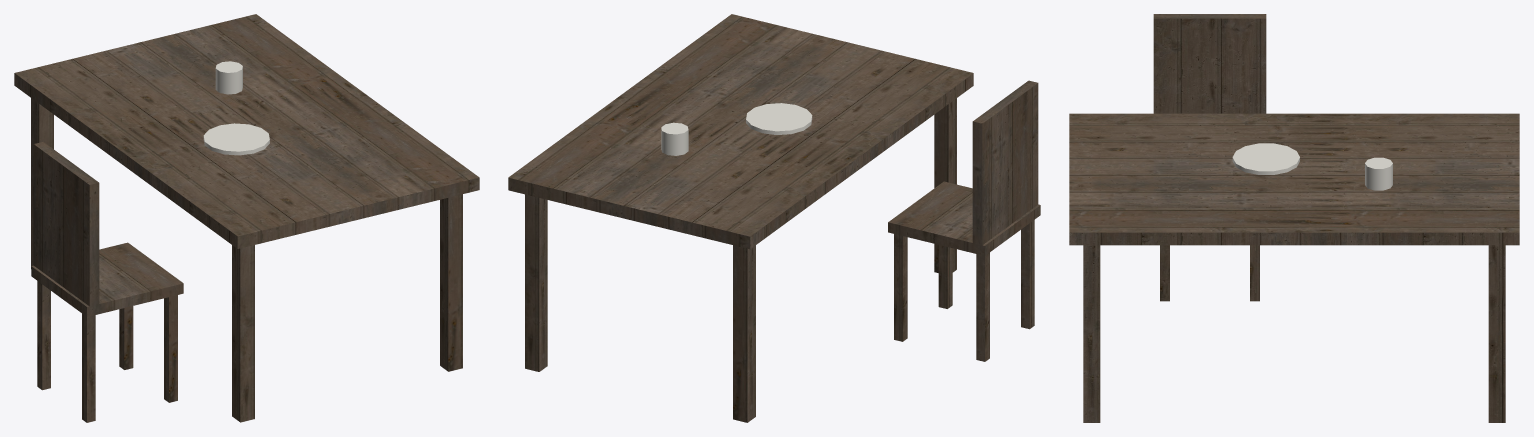
Rendered from kitchen_table.glb.
3 renders of one model, left to right at view 1: azimuth 30°, elevation 25°; view 2: azimuth 150°, elevation 25°; view 3: azimuth 270°, elevation 25°, orthographic.
Parts seen in each view (by area): view 1: kitchen_table; view 2: kitchen_table; view 3: kitchen_table.
Part boxes in pixels (x1,y1,x2,y2): kitchen_table: (14, 14, 479, 422); kitchen_table: (508, 14, 1040, 422); kitchen_table: (1069, 14, 1519, 422).
Size of the model in its own units: 1.45 by 0.95 by 1.6.
Materials: 2 (1 with a texture image).
